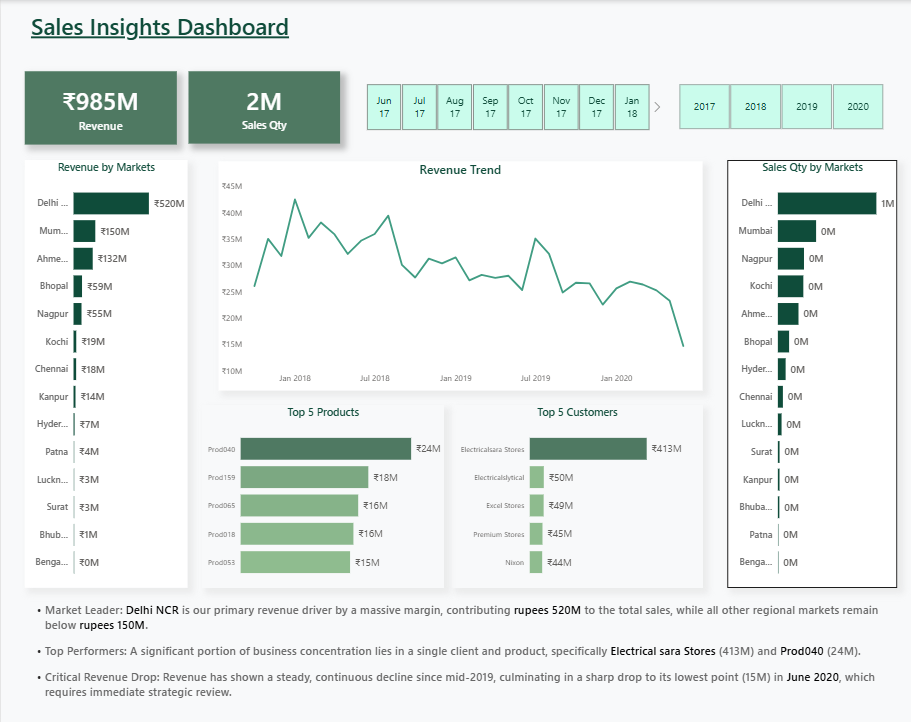

The dashboard page shown, as its layout file describes it:
{"tool":"powerbi","page":{"name":"Key Insights","canvas":[1500,1200],"ordinal":0},"visuals":[{"type":"card","title":"TOTAL REVENUE","fields":{"Values":["BaseMeasures (2).Revenue"]},"box":[39.2,115.7,249,119.6],"z":0},{"type":"card","fields":{"Values":["BaseMeasures (2).Sales Qty"]},"box":[306.7,116.7,248.3,118.3],"z":1000},{"type":"barChart","title":"Revenue by Markets","fields":{"Y":["BaseMeasures (2).Revenue"],"Category":["sales markets.markets_name"]},"box":[38.9,262.5,266.7,700],"z":2000},{"type":"barChart","title":"Sales Qty by Markets","fields":{"Y":["BaseMeasures (2).Sales Qty"],"Category":["sales markets.markets_name"]},"box":[1187.5,262.5,279.2,700],"z":3000},{"type":"slicer","fields":{"Values":["sales date.year"]},"box":[1083.3,131.7,383.3,86.7],"z":4000},{"type":"slicer","fields":{"Values":["sales date.cy_date"]},"box":[571.7,131.7,511.7,88.3],"z":5000},{"type":"barChart","title":"Top 5 Customers","fields":{"Y":["BaseMeasures (2).Revenue"],"Category":["sales customers.custmer_name"]},"box":[737.5,662.5,409.7,300],"z":6000},{"type":"barChart","title":"Top 5 Products","fields":{"Y":["BaseMeasures (2).Revenue"],"Category":["sales products.product_code"]},"box":[329.2,662.5,395.8,300],"z":7000},{"type":"lineChart","title":"Revenue Trend","fields":{"Y":["BaseMeasures (2).Revenue"],"Category":["sales date.cy_date"]},"box":[355,263.3,791.7,375],"z":8000},{"type":"textbox","box":[13.3,11.7,491.7,75],"z":9000},{"type":"textbox","box":[38.9,980.6,1427.8,181.9],"z":10000}]}

Visuals, with their boxes in screenshot pixels (x1, y1, x2, y2), scaled from the page's 1500x1200 canvas onto the 911x722 screenshot:
"TOTAL REVENUE" card: box(24, 70, 175, 142)
card - BaseMeasures (2).Sales Qty: box(186, 70, 337, 141)
"Revenue by Markets" barChart: box(24, 158, 186, 579)
"Sales Qty by Markets" barChart: box(721, 158, 891, 579)
slicer - sales date.year: box(658, 79, 891, 131)
slicer - sales date.cy_date: box(347, 79, 658, 132)
"Top 5 Customers" barChart: box(448, 399, 697, 579)
"Top 5 Products" barChart: box(200, 399, 440, 579)
"Revenue Trend" lineChart: box(216, 158, 696, 384)
textbox: box(8, 7, 307, 52)
textbox: box(24, 590, 891, 699)
